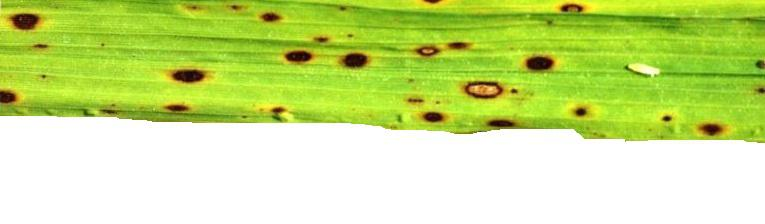brown_spot: (4, 6, 726, 136)
